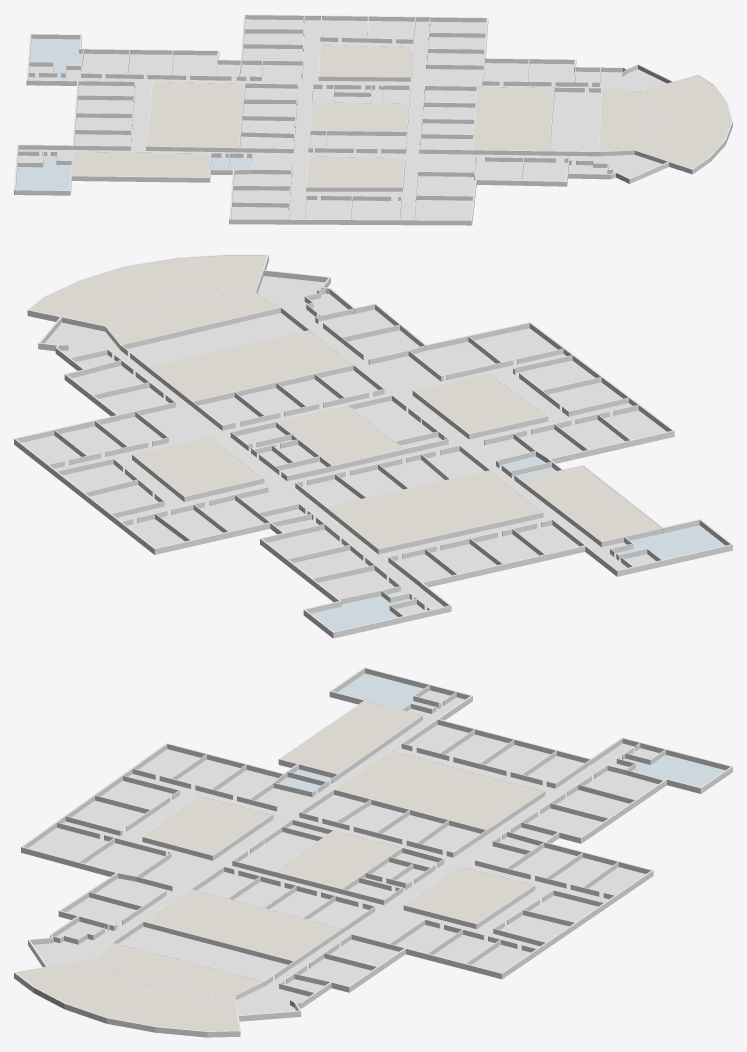
The picture shows the model from 3 angles, top to bottom: view 1: azimuth 30°, elevation 25°; view 2: azimuth 150°, elevation 25°; view 3: azimuth 270°, elevation 25°; orthographic projection. The views are drawn at different scales.
Visible parts, largest first — view 1: m_93eade6f818400c4; view 2: m_93eade6f818400c4; view 3: m_93eade6f818400c4.
Part boxes in pixels (x1,y1,x2,y2): m_93eade6f818400c4: (14, 14, 732, 225); m_93eade6f818400c4: (14, 254, 732, 638); m_93eade6f818400c4: (14, 667, 732, 1037).
Size of the model in its own units: 65.68 by 0.4708 by 54.73.
